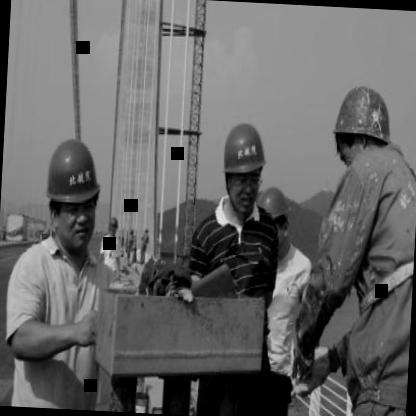helmet: (42, 134, 102, 252), (330, 80, 390, 180), (216, 115, 270, 221), (258, 187, 297, 260), (105, 214, 120, 240)
